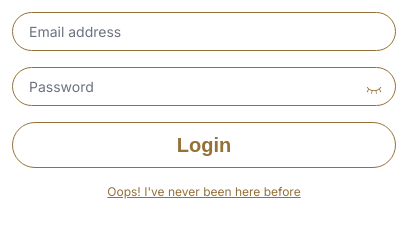
LoginForm › shows an inline error message when the server action returns one
Type "jane@example.com" into the field with placeholder "Email address".
click(204, 32); type("jane@example.com")  # box [12,12,396,51]
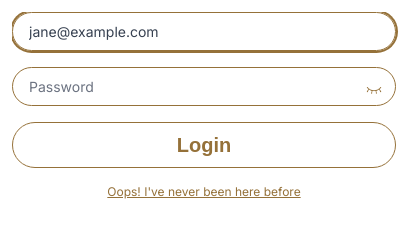
Type "wrongpass" into the password field with placeholder "Password".
click(204, 86); type("wrongpass")  # box [12,67,396,106]
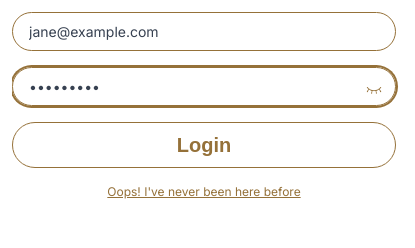
Click the button "Login".
click(204, 145)  # box [12,122,396,168]
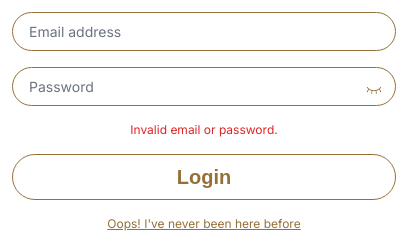
Check: the message reads "Invalid email or password.", box [130,122,278,137]
